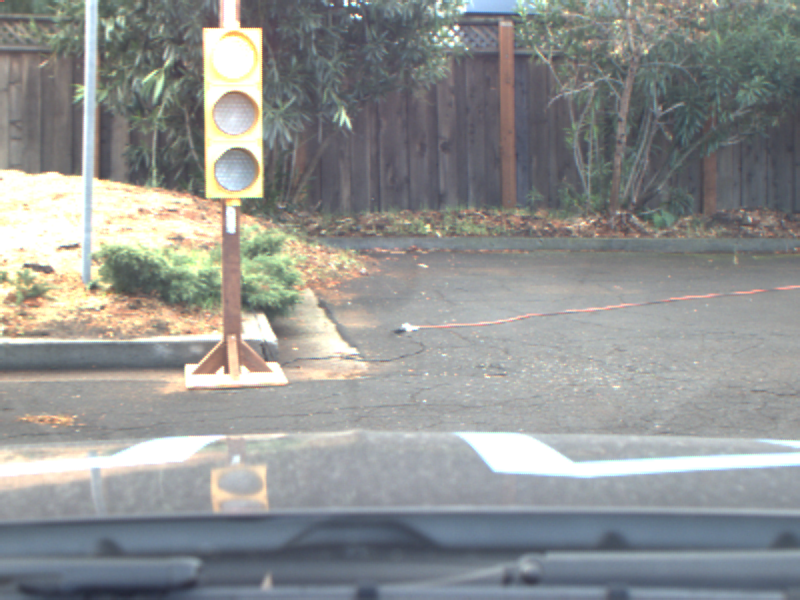Red: (202, 27, 261, 199)
